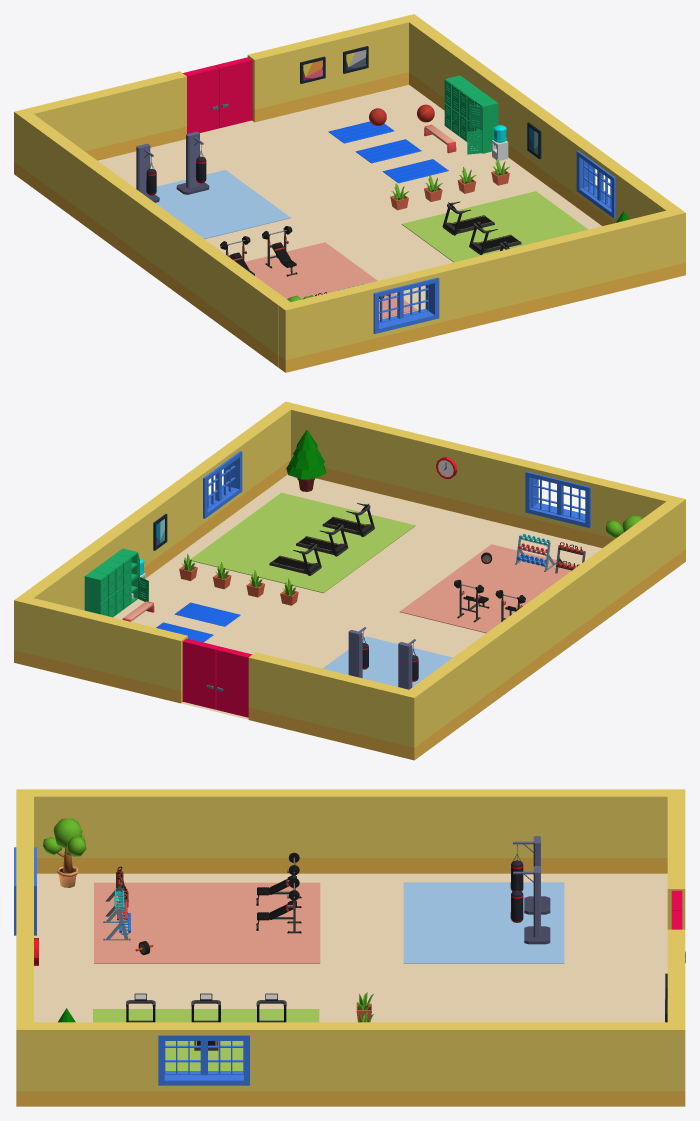
Rendered from gym room.fbx.
3 renders of one model, top to bottom at view 1: azimuth 30°, elevation 25°; view 2: azimuth 150°, elevation 25°; view 3: azimuth 270°, elevation 25°, orthographic. The views are drawn at different scales.
Visible parts, largest first — view 1: Plane, wall.001, wall, wall.002, wall.004, wall.003, Cube.001, Cube.003, Cube.002, model_0.008, model_0.015, window_double_3x3.001 (+10 smaller); view 2: Plane, wall, wall.001, wall.002, wall.004, wall.003, Cube.001, Cube.002, model_0.008, Cube.003, window_double_3x3.001, door1.050 (+9 smaller); view 3: Plane, wall, wall.002, Cube.002, Cube.003, wall.001, Cube.001, window_double_3x3, wall.003, wall.004, tree.017, model_0.011 (+5 smaller).
Part boxes in pixels (x1,y1,x2,y2): Plane: (98, 85, 601, 319); wall.001: (279, 208, 685, 372); wall: (14, 109, 290, 367); wall.002: (403, 14, 678, 225); wall.004: (247, 17, 409, 122); wall.003: (26, 71, 186, 160); Cube.001: (401, 191, 587, 262); Cube.003: (155, 170, 290, 238); Cube.002: (245, 242, 417, 319); model_0.008: (444, 75, 498, 154); model_0.015: (328, 121, 448, 183); window_double_3x3.001: (373, 277, 439, 333); Plane: (113, 474, 601, 719); wall: (402, 501, 679, 760); wall.001: (279, 401, 685, 566); wall.002: (14, 406, 290, 665); wall.004: (26, 598, 187, 703); wall.003: (248, 652, 408, 757); Cube.001: (190, 492, 415, 593); Cube.002: (399, 544, 578, 633); model_0.008: (84, 548, 148, 617); Cube.003: (323, 636, 452, 686); window_double_3x3.001: (525, 471, 590, 527); door1.050: (182, 638, 219, 709); Plane: (34, 873, 667, 1022); wall: (33, 789, 685, 873); wall.002: (33, 1022, 685, 1106); Cube.002: (94, 882, 320, 963); Cube.003: (403, 882, 564, 963); wall.001: (16, 789, 33, 1106); Cube.001: (93, 1009, 319, 1070); window_double_3x3: (158, 1035, 249, 1085); wall.003: (667, 796, 685, 929); wall.004: (667, 929, 685, 1022); tree.017: (43, 818, 86, 887); model_0.011: (126, 993, 286, 1050).
Size of the model in its own units: 33.09 by 5.02 by 38.89.
3 materials, 3 textured.
